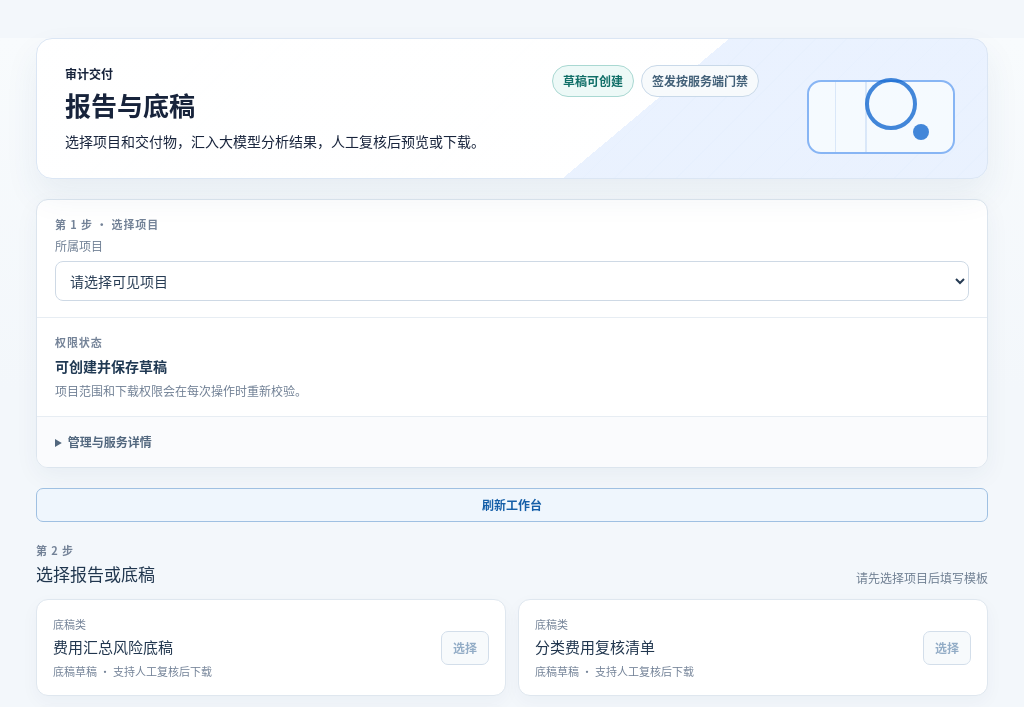
Test case: ReplicaReportWorkbench › surfaces runtime boundary anomalies instead of repeating false claims
Select "Alpha 医保专项" in the dropdown labelled "所属项目" at (512, 281), box x1=55 y1=261 x2=969 y2=301
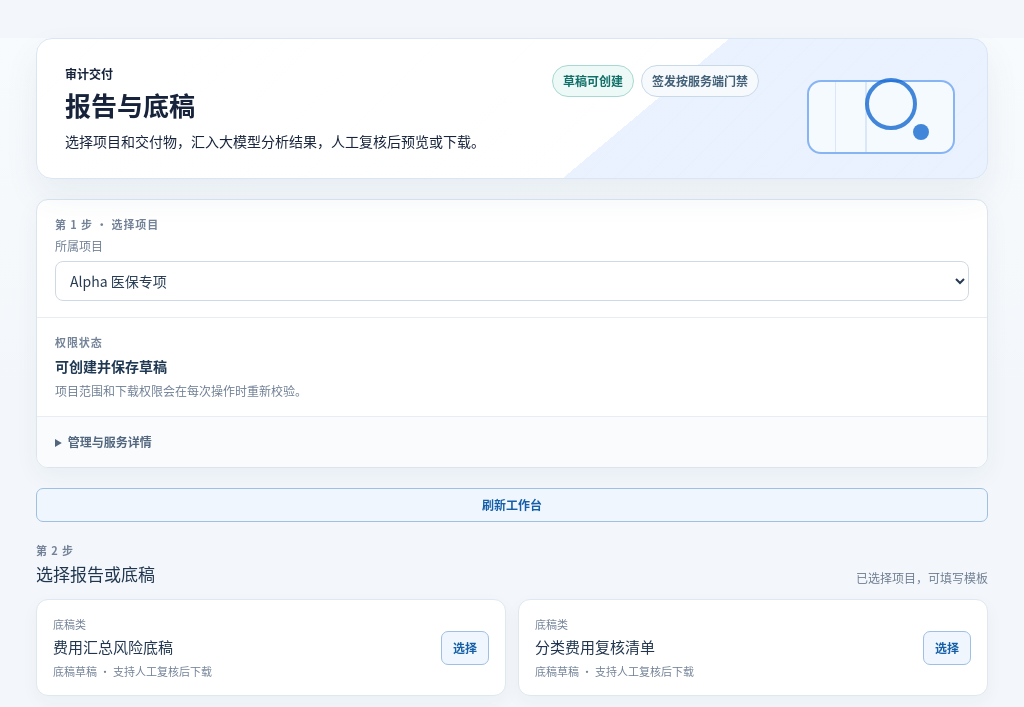
Check: the button with aria-label "填写模板：费用汇总风险底稿" is enabled
Click the button with aria-label "填写模板：费用汇总风险底稿" at (465, 648), box x1=441 y1=631 x2=489 y2=665
(page scrolled)
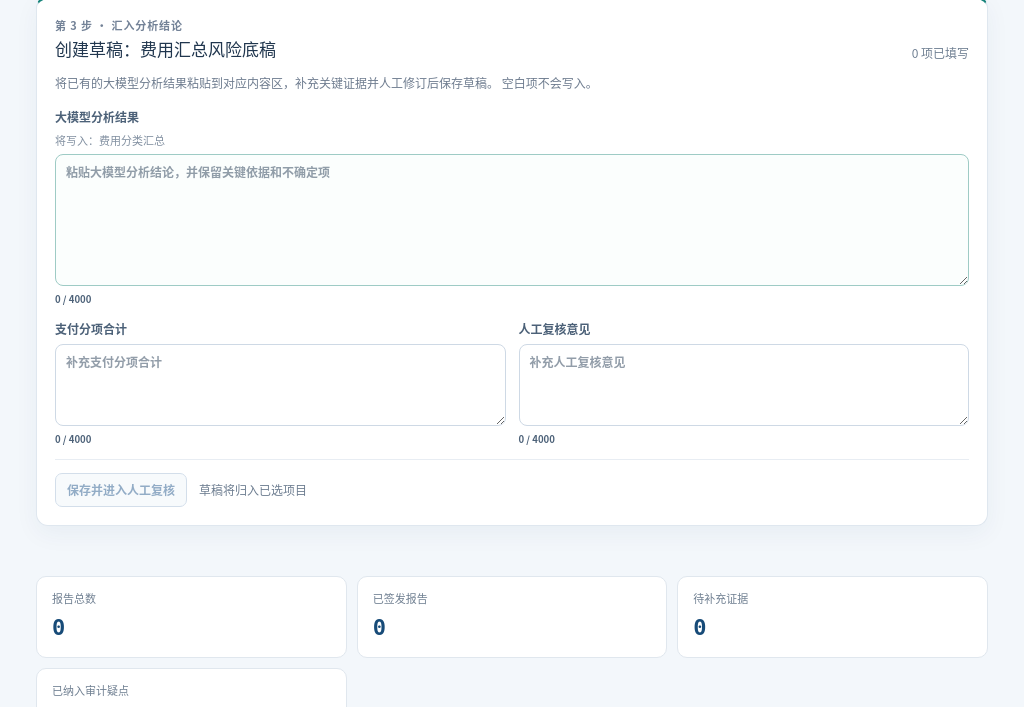
Type "待主任复核" into the text box labelled "人工复核意见" at (744, 385), box x1=518 y1=344 x2=969 y2=426
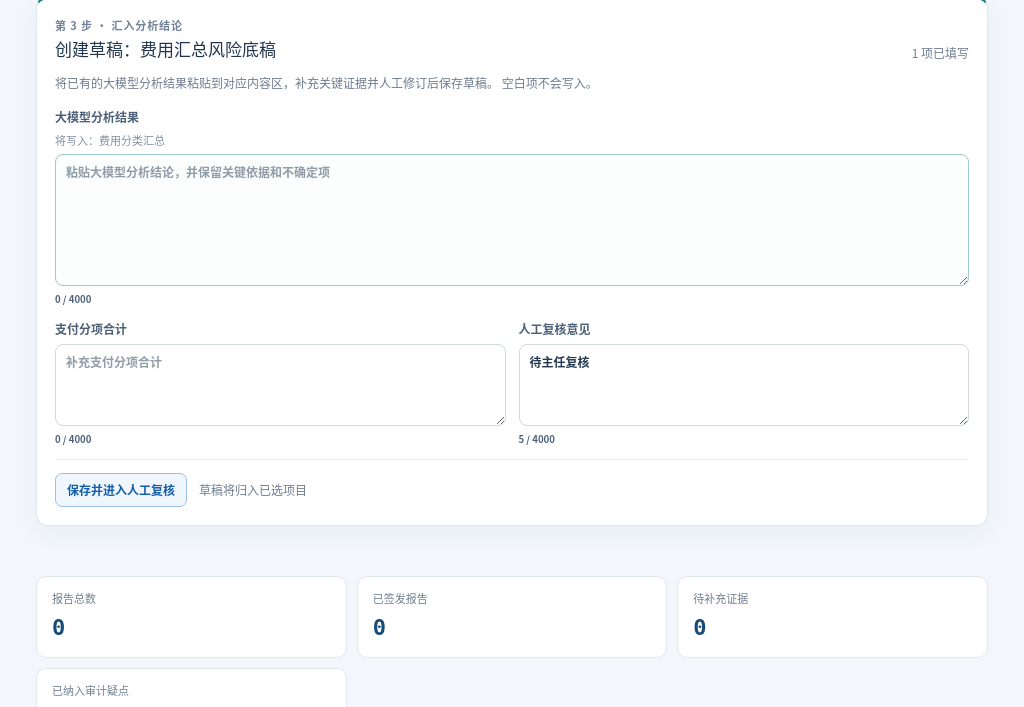
Submit the form named "费用汇总风险底稿草稿", box x1=55 y1=108 x2=969 y2=507
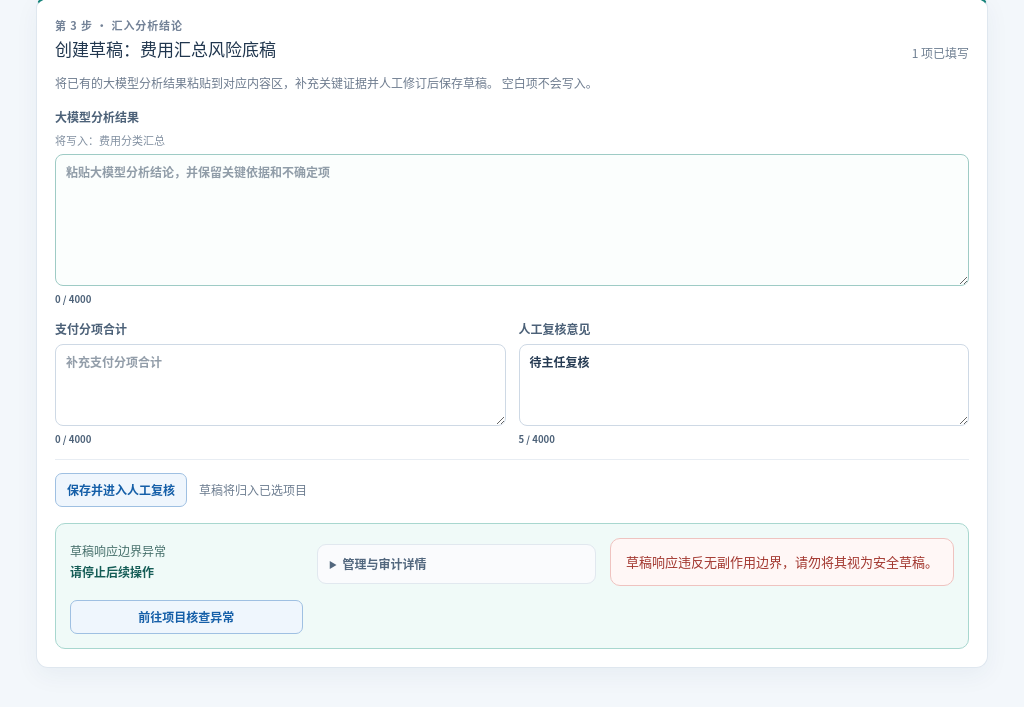
Check: the text "formal_report_created=true" is shown, box x1=317 y1=544 x2=596 y2=584
Check: the message shows "草稿响应违反无副作用边界", box x1=626 y1=552 x2=938 y2=571
